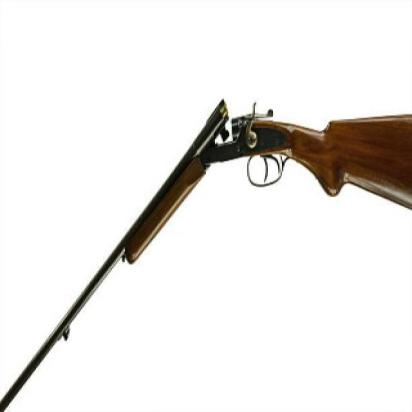Gun: (3, 97, 410, 395)
